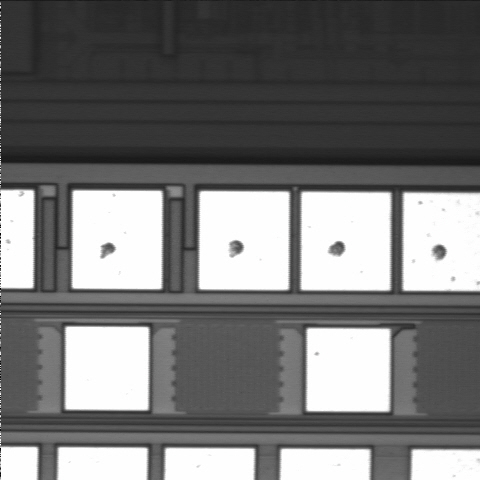pad: (199, 191, 289, 290), (72, 191, 162, 289), (301, 192, 391, 290), (65, 327, 149, 410), (307, 328, 390, 411)
